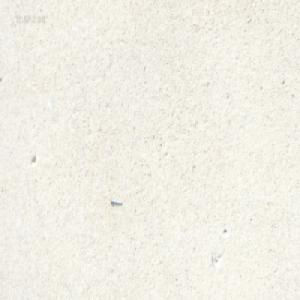Nail: (109, 197, 124, 207)
